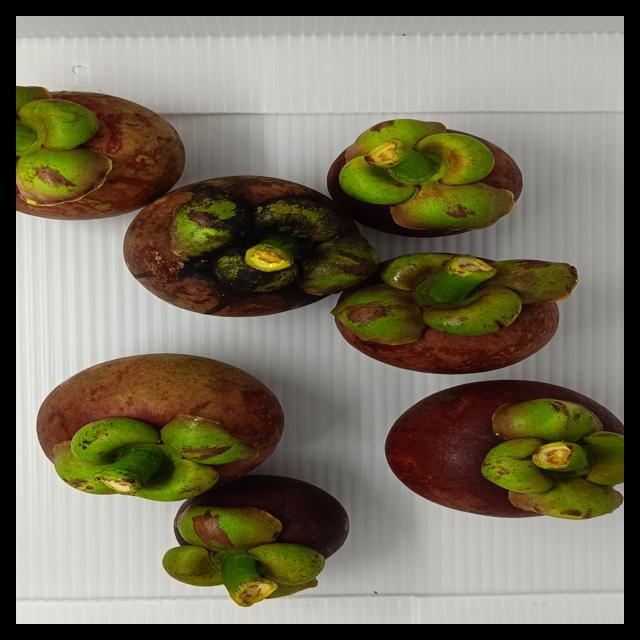mangosteen: (17, 337, 330, 537), (333, 223, 607, 403), (367, 376, 624, 549), (325, 70, 572, 247), (16, 56, 206, 279), (123, 165, 369, 332), (142, 477, 373, 605)
